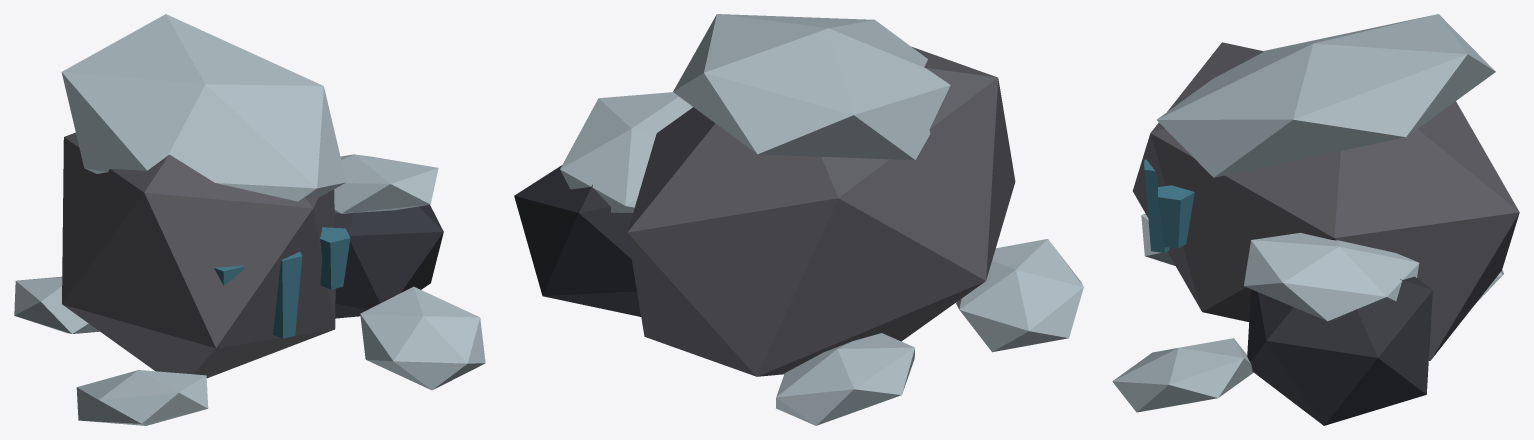
Rendered from Snowbound_Boulder.glb.
3 renders of one model, left to right at view 1: azimuth 30°, elevation 25°; view 2: azimuth 150°, elevation 25°; view 3: azimuth 270°, elevation 25°, orthographic. The views are drawn at different scales.
Visible parts, largest first — view 1: Snowbound_Boulder; view 2: Snowbound_Boulder; view 3: Snowbound_Boulder.
Part boxes in pixels (x1,y1,x2,y2): Snowbound_Boulder: (14,14,485,425); Snowbound_Boulder: (514,14,1083,425); Snowbound_Boulder: (1112,14,1519,425).
Size of the model in its own units: 1.83 by 1.26 by 1.5.
